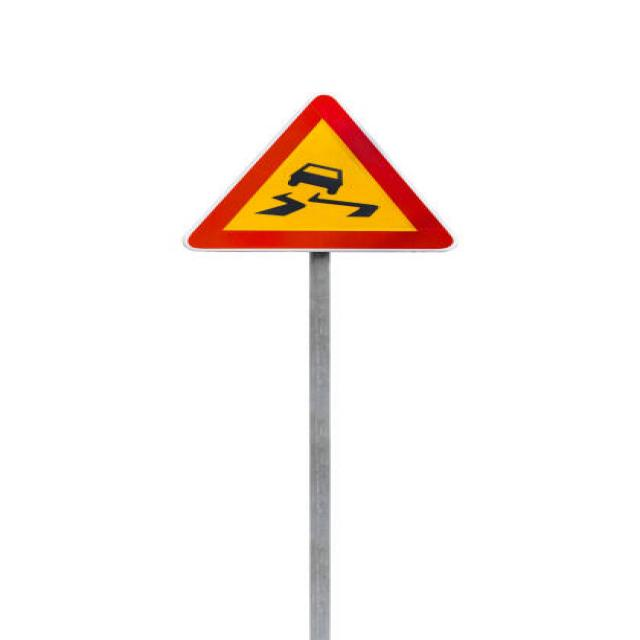road_slippery: (187, 88, 458, 262)
